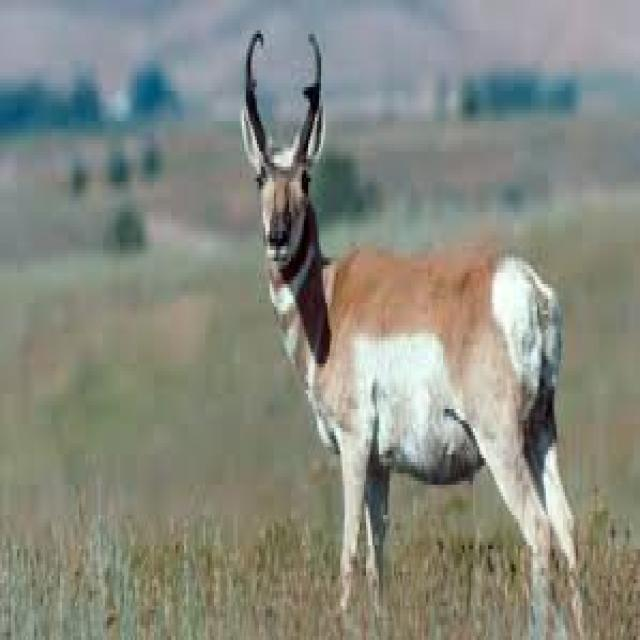Antelope: (236, 23, 584, 619)
